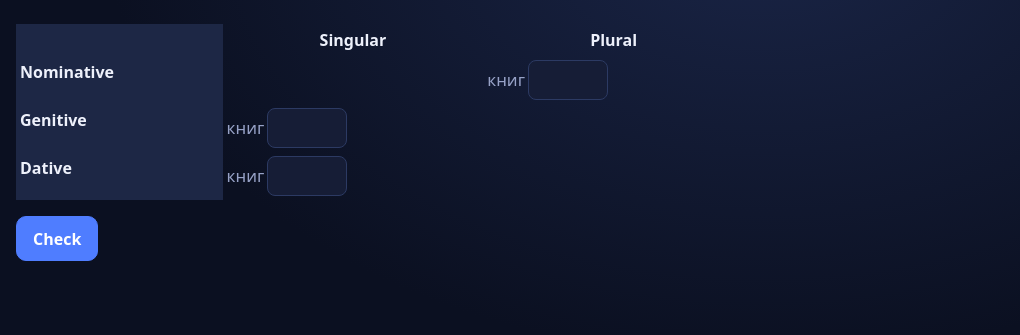
BlindEndings — rule reminders › says one rule once, however many cells it explains
Type "ы" into the field with class "ending-input" in the row of "Nominative" at (568, 80), box [528,60,608,100]
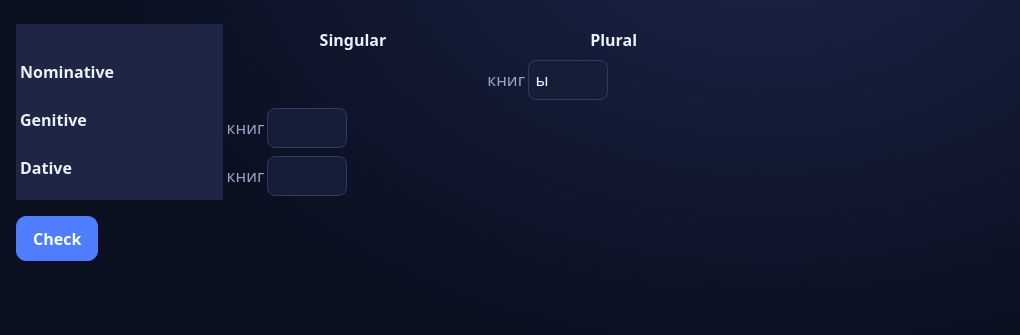
Type "ы" into the field with class "ending-input" in the row of "Genitive" at (307, 128), box [267,108,347,148]
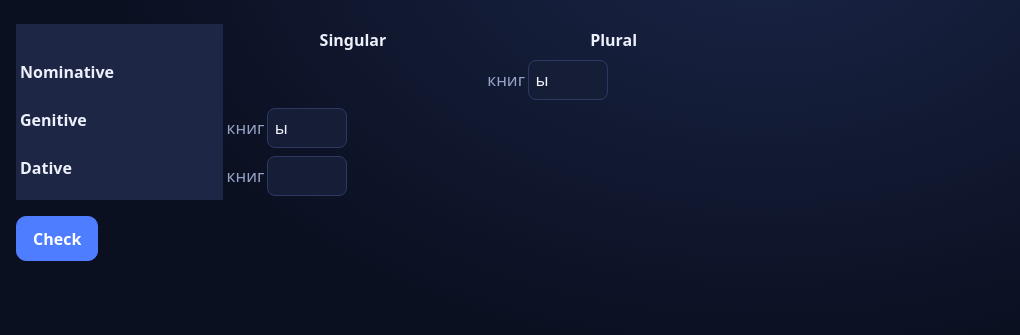
Type "е" into the field with class "ending-input" in the row of "Dative" at (307, 176), box [267,156,347,196]
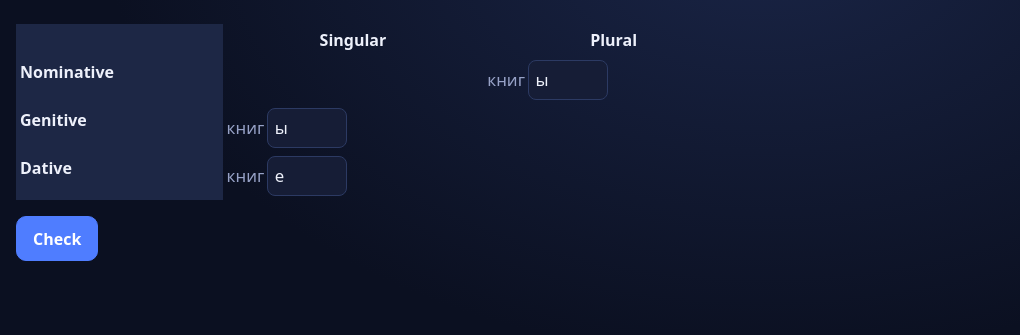
Click the button "Check" at (57, 238), box [16,216,98,261]
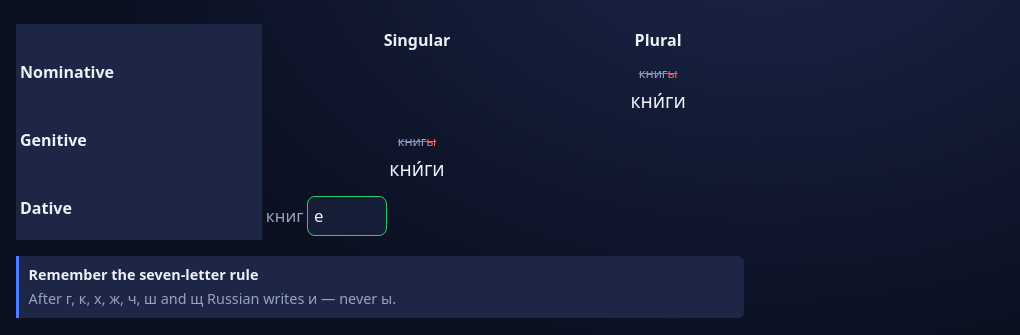
Result: the number of elements with class "rule-hint" is 1 at [16,256,744,318]
